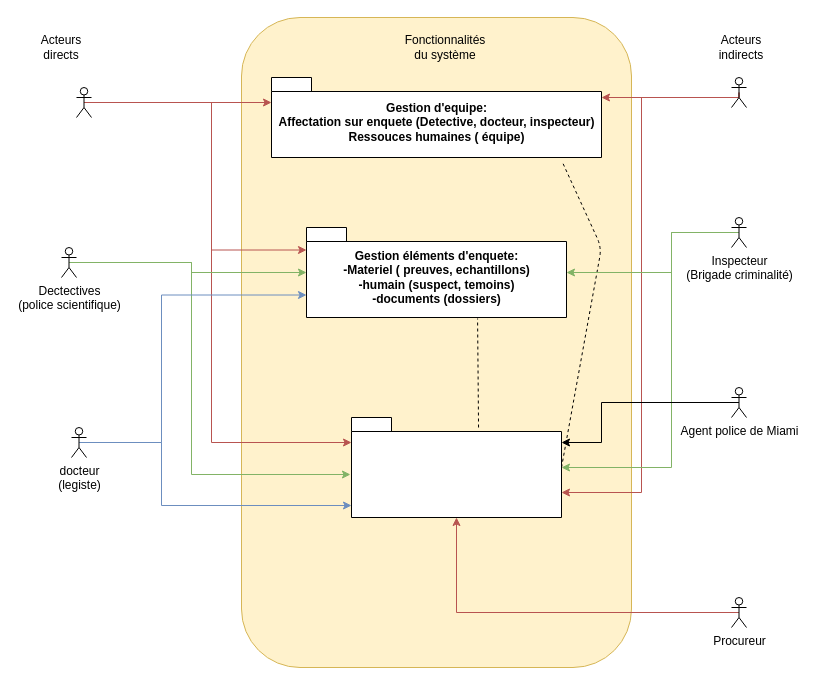
The diagram is 815 pixels wide and 685 high, and some of its shapes have lost their labels. The centre of each missing label's shape, as x and y in pixels:
"Chef police de Miami" belongs at point 738,92.
"Consultation éléments d'enquete -Equipe -Materiel -Humain -Documents" belongs at point 456,467.
"Lieutnant (Chef police scientifique)" belongs at point 84,102.
